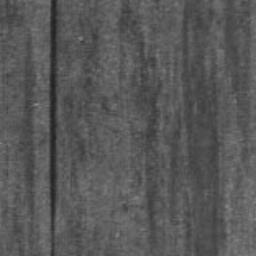Scratches: (49, 0, 57, 256)
